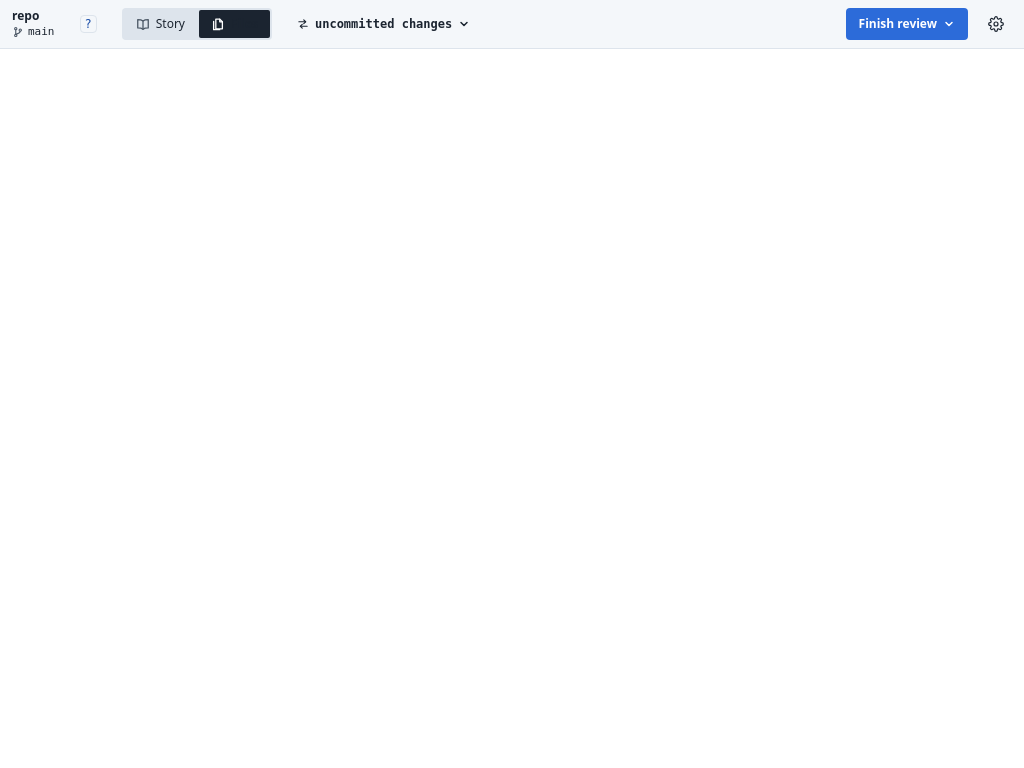
Scenario: the list of bases › puts the keyboard in its filter, and back on the base once one is taken
Click the button with test id "base-picker" at (384, 24), box [284,8,483,40]
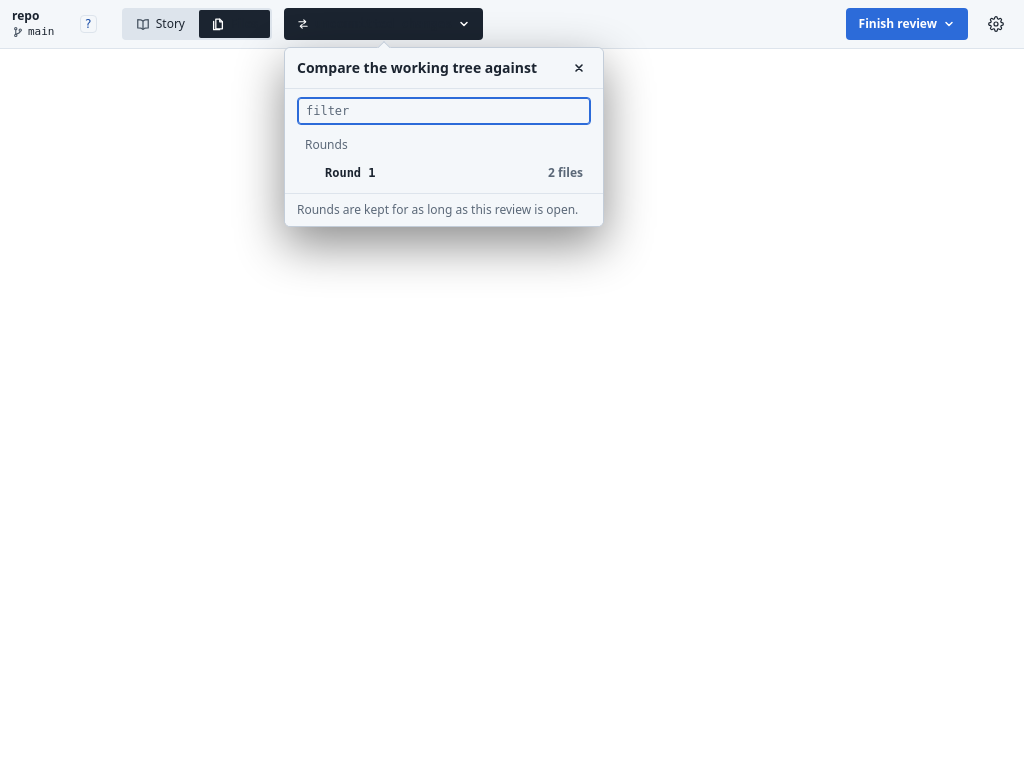
Click the button with test id "base-option" at (350, 173), box [297,157,591,189]
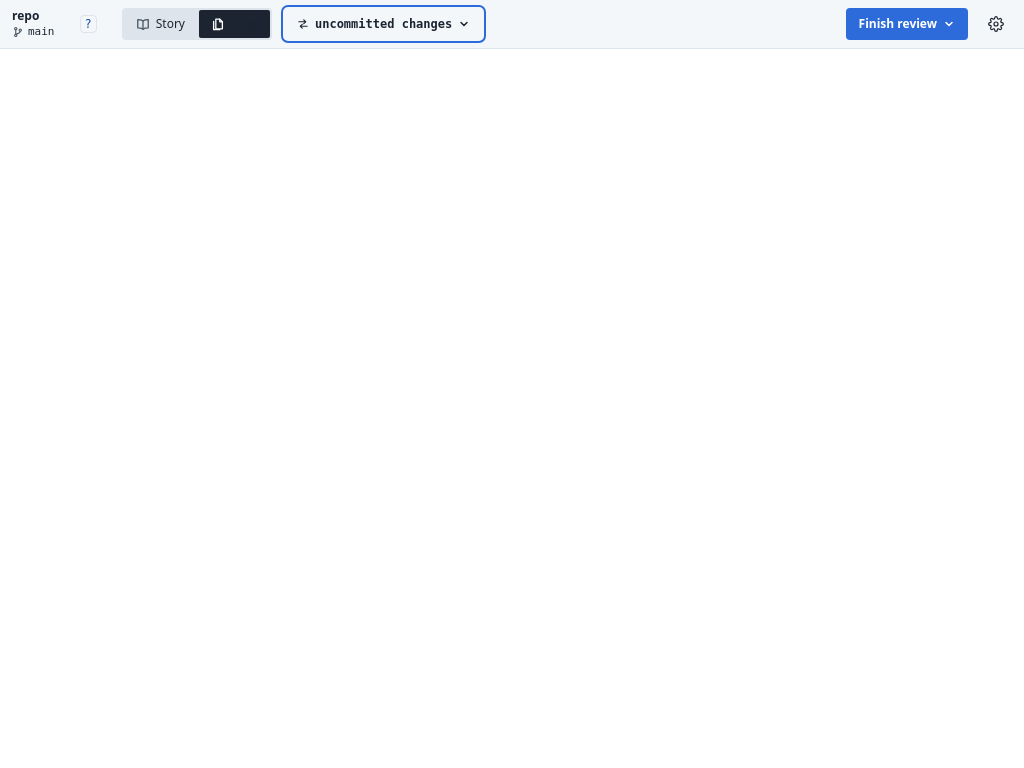
Expected: the dialog with test id "base-list" is gone
